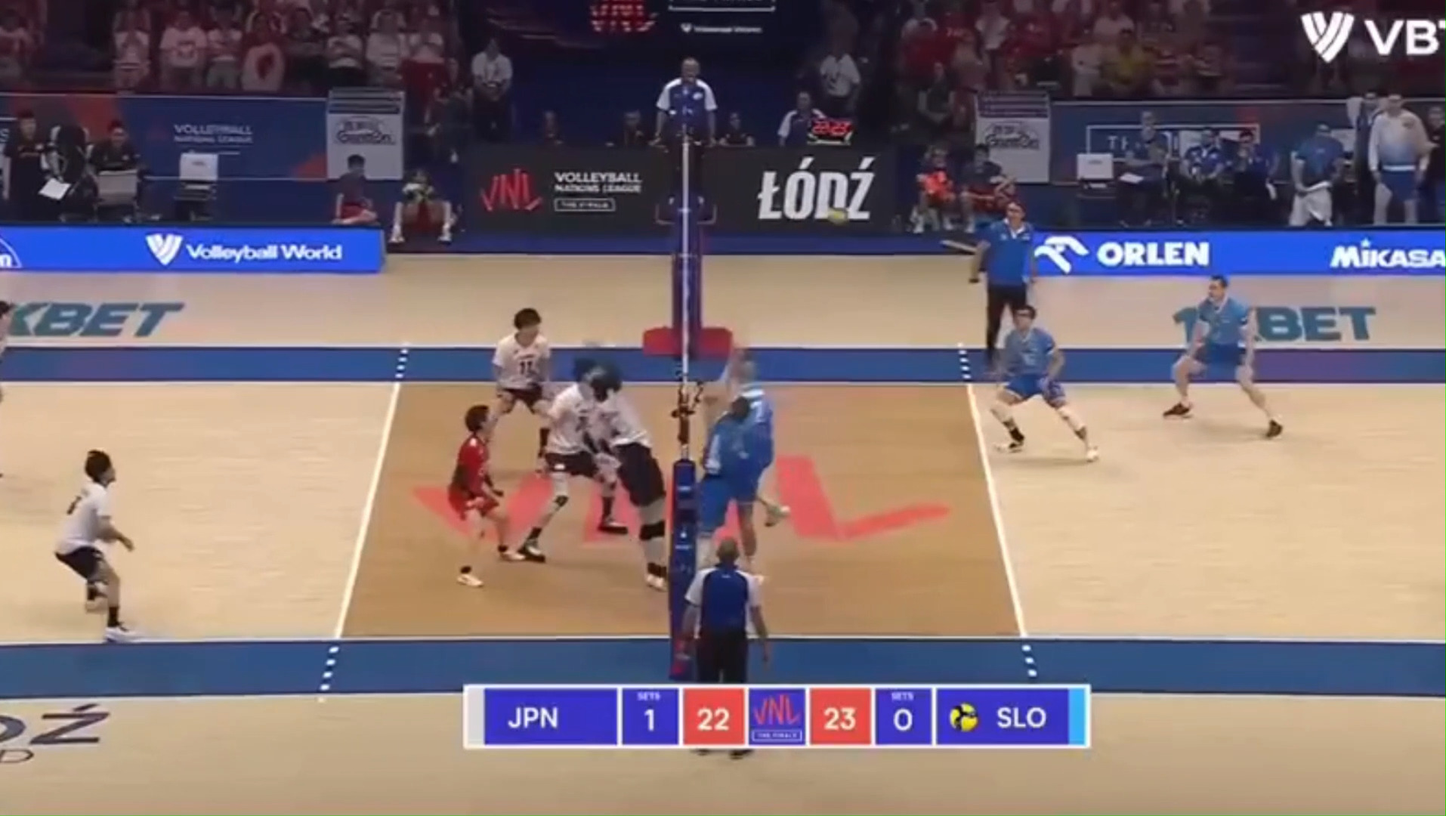ball: (826, 209, 848, 225)
player: (1162, 275, 1282, 436), (990, 305, 1098, 461), (698, 351, 774, 560), (700, 391, 755, 552)
player 1: (518, 360, 627, 562), (582, 366, 668, 589), (55, 450, 133, 641), (446, 404, 521, 588), (486, 308, 551, 469)
referee: (682, 538, 768, 683), (655, 57, 717, 225), (977, 202, 1037, 367)
